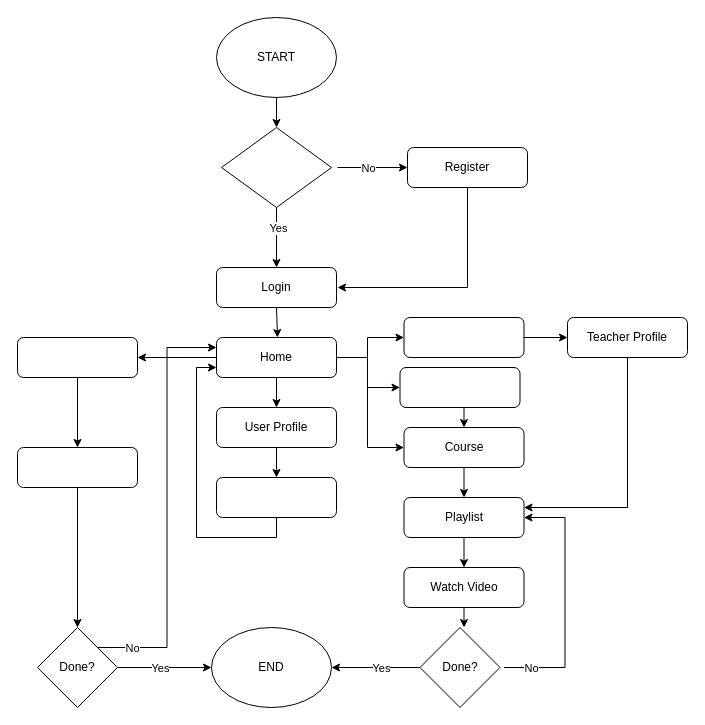
This 705x725 diagram has some shape labels left out. The shapes that lost their labels are listed below. From the top down, each one's centre as x and y in pixels, then its label:
point (276, 167): Punya akun
point (77, 357): Quiz
point (463, 337): Teacher
point (459, 387): About
point (77, 467): Hasil
point (276, 497): Update Profile
